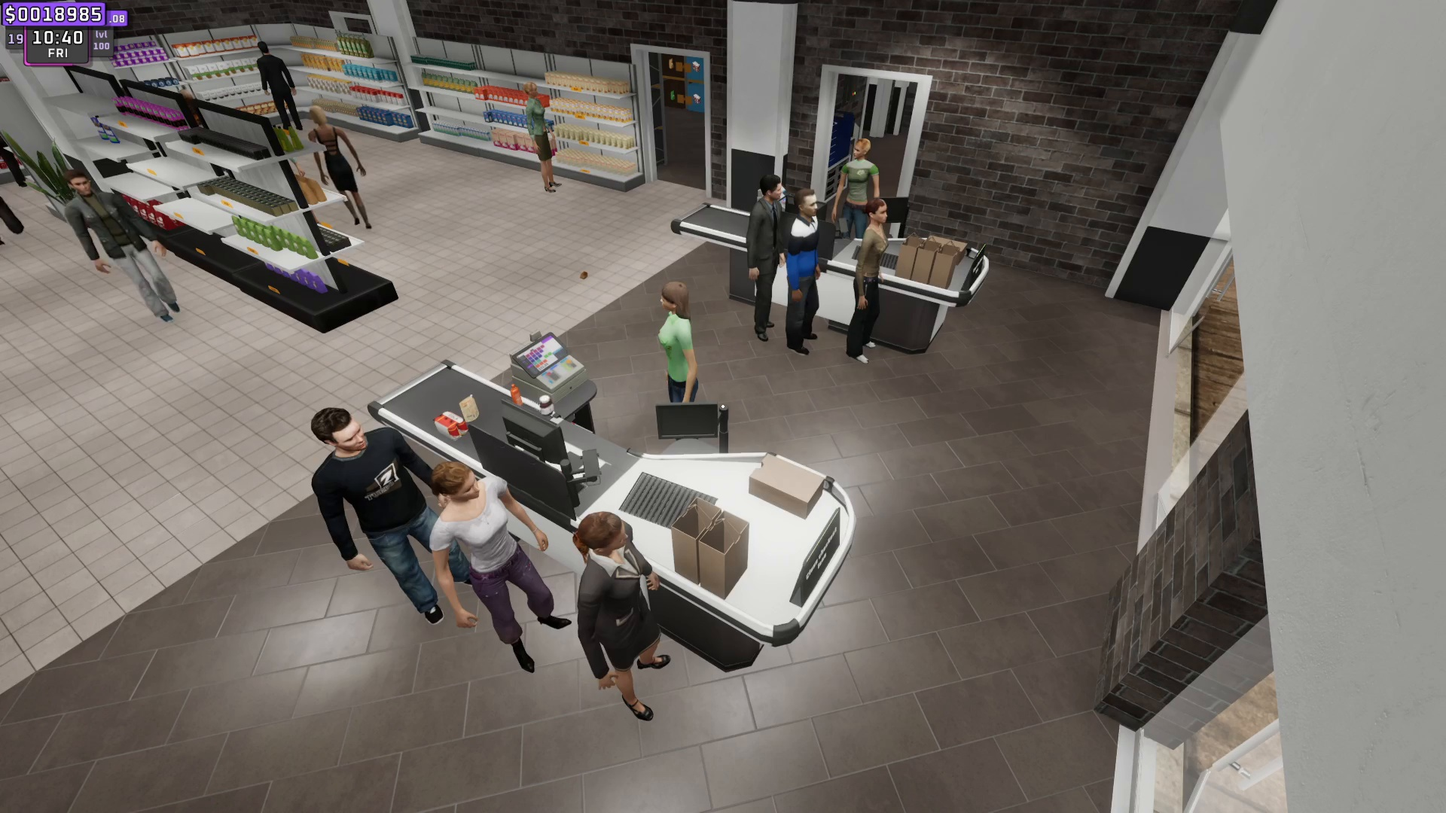Client: (306, 411, 458, 608), (433, 464, 555, 661), (577, 512, 678, 718), (729, 152, 781, 330), (788, 186, 826, 359), (859, 200, 888, 364)
Employee: (652, 284, 710, 407), (841, 136, 880, 234)
